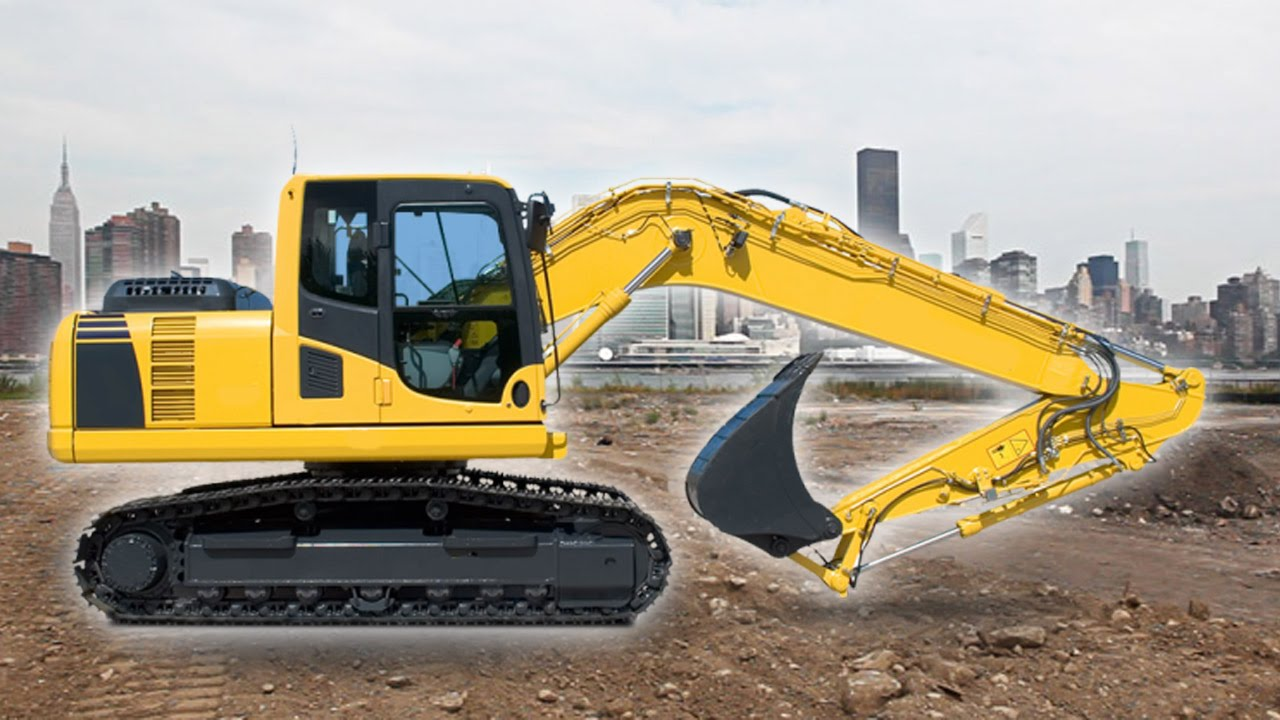backhoe: (43, 165, 1218, 644)
